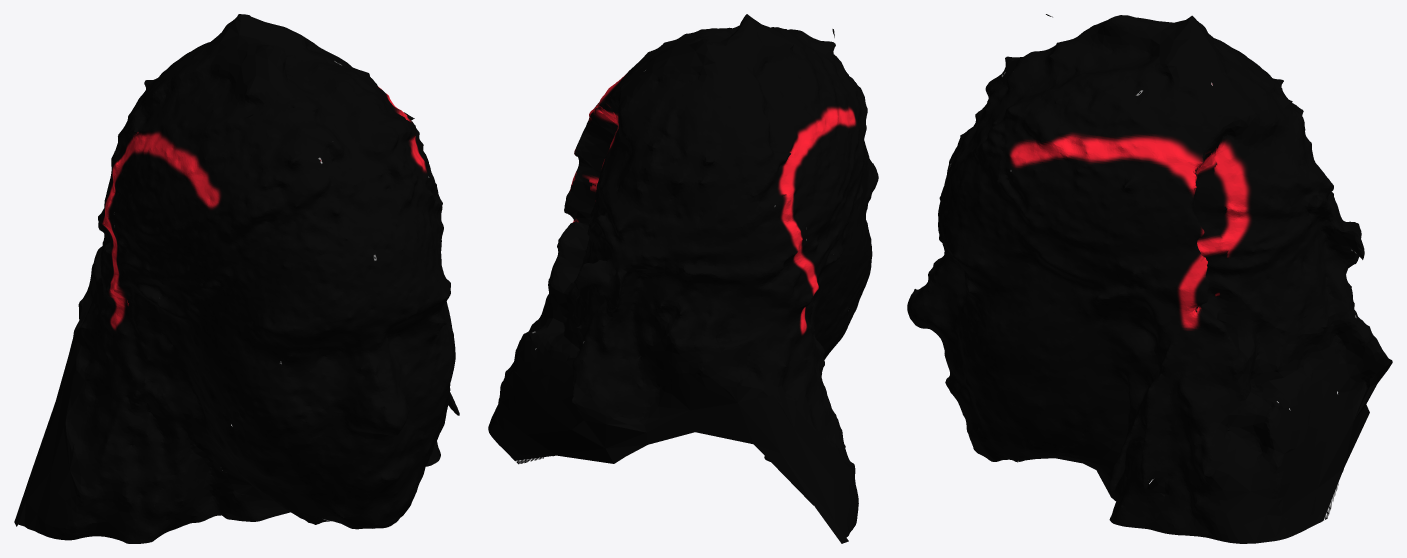
File: study_4_head.obj
The picture shows the model from 3 angles, left to right: view 1: azimuth 30°, elevation 25°; view 2: azimuth 150°, elevation 25°; view 3: azimuth 270°, elevation 25°; orthographic projection. The views are drawn at different scales.
Parts seen in each view (by area): view 1: Scaniverse_2026_06_22_170809; view 2: Scaniverse_2026_06_22_170809; view 3: Scaniverse_2026_06_22_170809.
Part boxes in pixels (x1=…): Scaniverse_2026_06_22_170809: x1=14, y1=14, x2=459, y2=543; Scaniverse_2026_06_22_170809: x1=488, y1=14, x2=878, y2=543; Scaniverse_2026_06_22_170809: x1=907, y1=14, x2=1392, y2=543.
Bounding box in the file's own units: 0.2484 × 0.2904 × 0.2729.
1 material, 1 textured.
